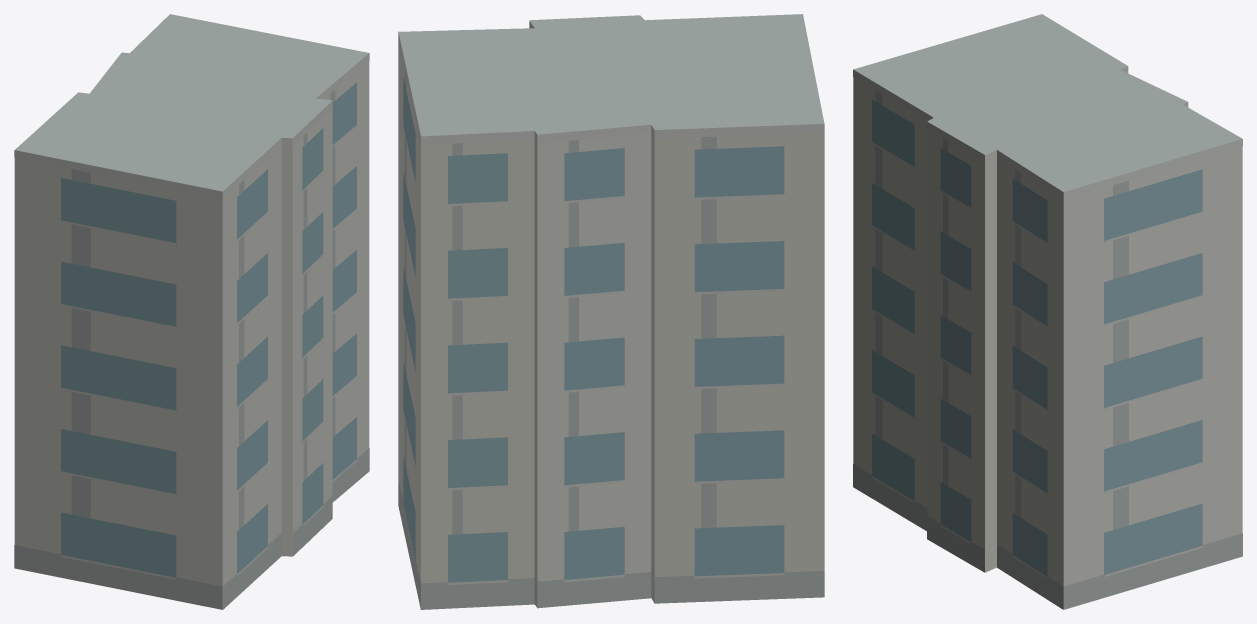
Rendered from survey-upis-32724543.glb.
3 views of the same model, side by side, from view 1: azimuth 30°, elevation 25°; view 2: azimuth 150°, elevation 25°; view 3: azimuth 270°, elevation 25° (orthographic). The views are drawn at different scales.
Visible parts, largest first — view 1: survey-upis-32724543.tmp; view 2: survey-upis-32724543.tmp; view 3: survey-upis-32724543.tmp.
Part boxes in pixels (left/top/right/bottom): survey-upis-32724543.tmp: left=14, top=14, right=369, bottom=609; survey-upis-32724543.tmp: left=398, top=14, right=824, bottom=609; survey-upis-32724543.tmp: left=853, top=14, right=1242, bottom=609.
Size of the model in its own units: 12.08 by 13.2 by 11.17.
